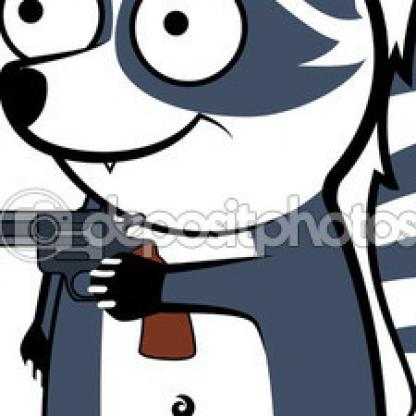gun: (0, 204, 200, 364)
